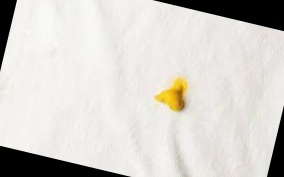mustard: (155, 77, 193, 118)
